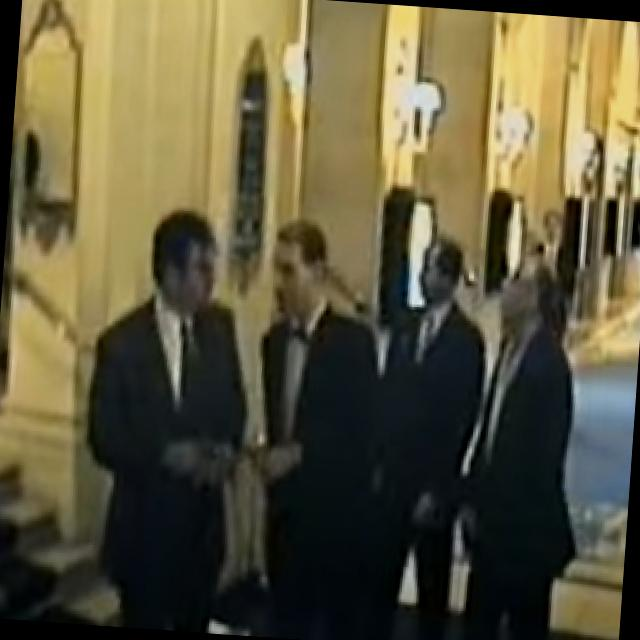person: (68, 202, 274, 636), (233, 216, 402, 640), (440, 254, 597, 640), (357, 230, 498, 640)
